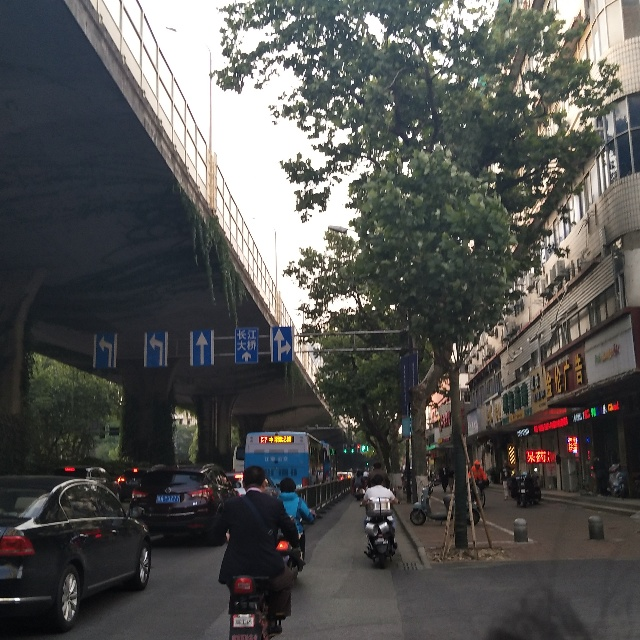left: (141, 327, 175, 374), (90, 332, 118, 372)
straight: (189, 327, 217, 373)
